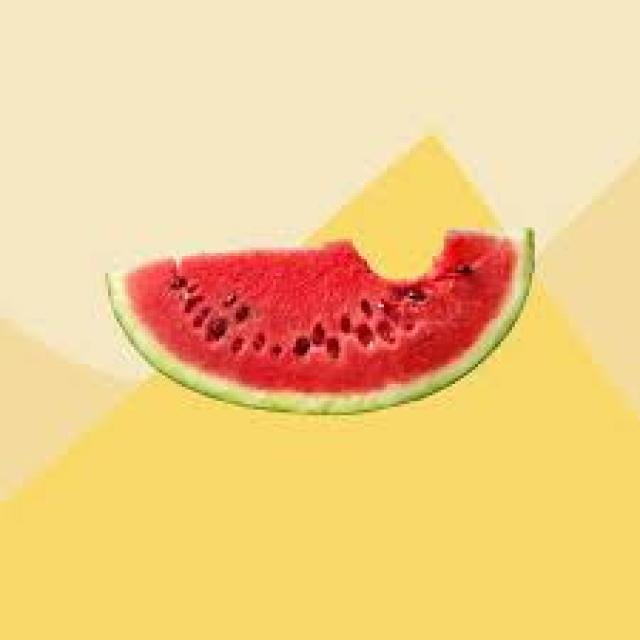watermelon: (102, 222, 535, 415)
